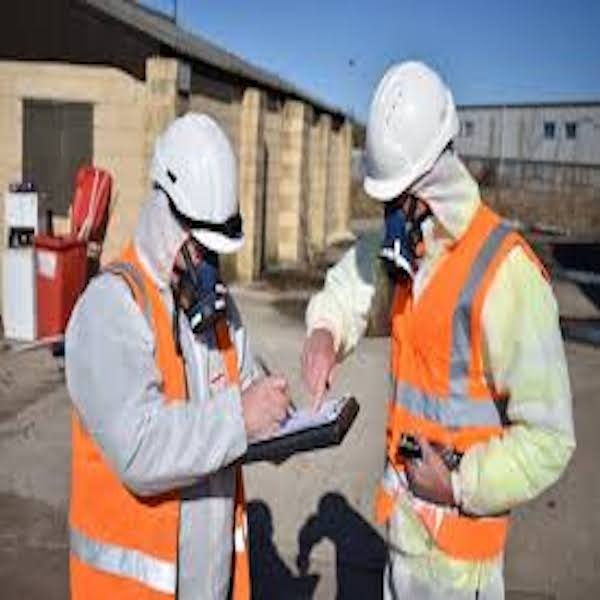helmet: (358, 61, 463, 200), (171, 117, 250, 248)
vest: (385, 224, 528, 528), (67, 271, 188, 600)
